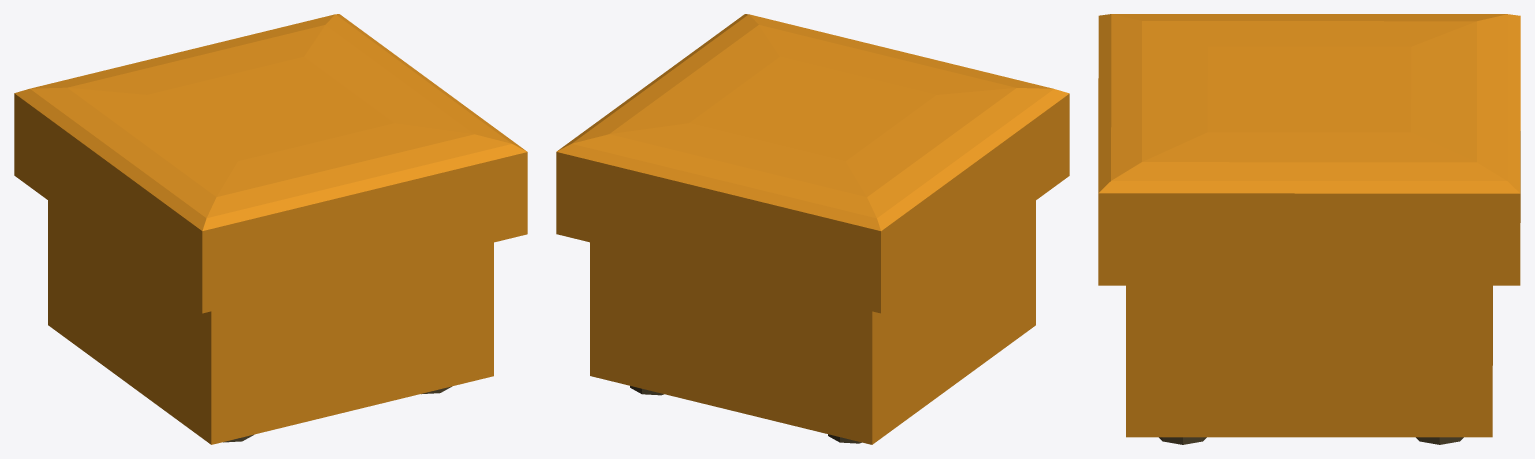
Rendered from puffy_visual.dae.
3 views of the same model, side by side, from view 1: azimuth 30°, elevation 25°; view 2: azimuth 150°, elevation 25°; view 3: azimuth 270°, elevation 25° (orthographic). The views are drawn at different scales.
Parts seen in each view (by area): view 1: Circle; view 2: Circle; view 3: Circle.
Boxes of the visible parts, <box> form: Circle: <box>14,14,527,444</box>; Circle: <box>556,14,1069,444</box>; Circle: <box>1098,14,1520,444</box>.
Size of the model in its own units: 66.35 by 66.59 by 50.22.
